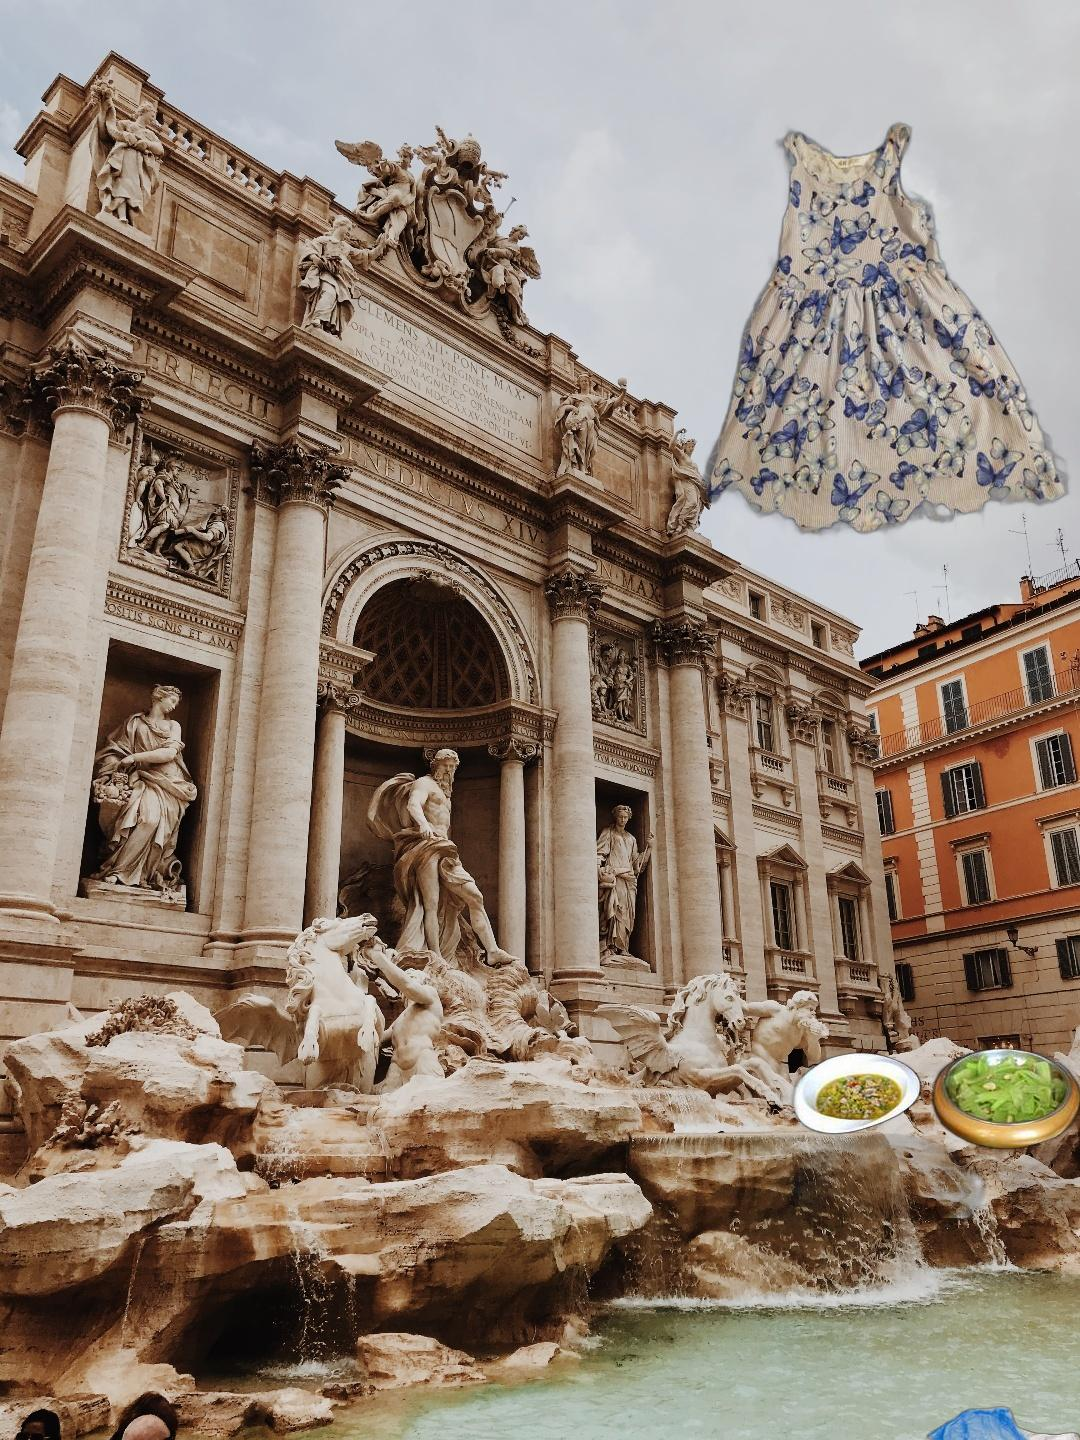biological: (724, 964, 1080, 1218)
clothes: (697, 118, 1071, 547)
metal-cans: (942, 666, 1080, 1018)
plastic-bag: (923, 1404, 1080, 1440)
